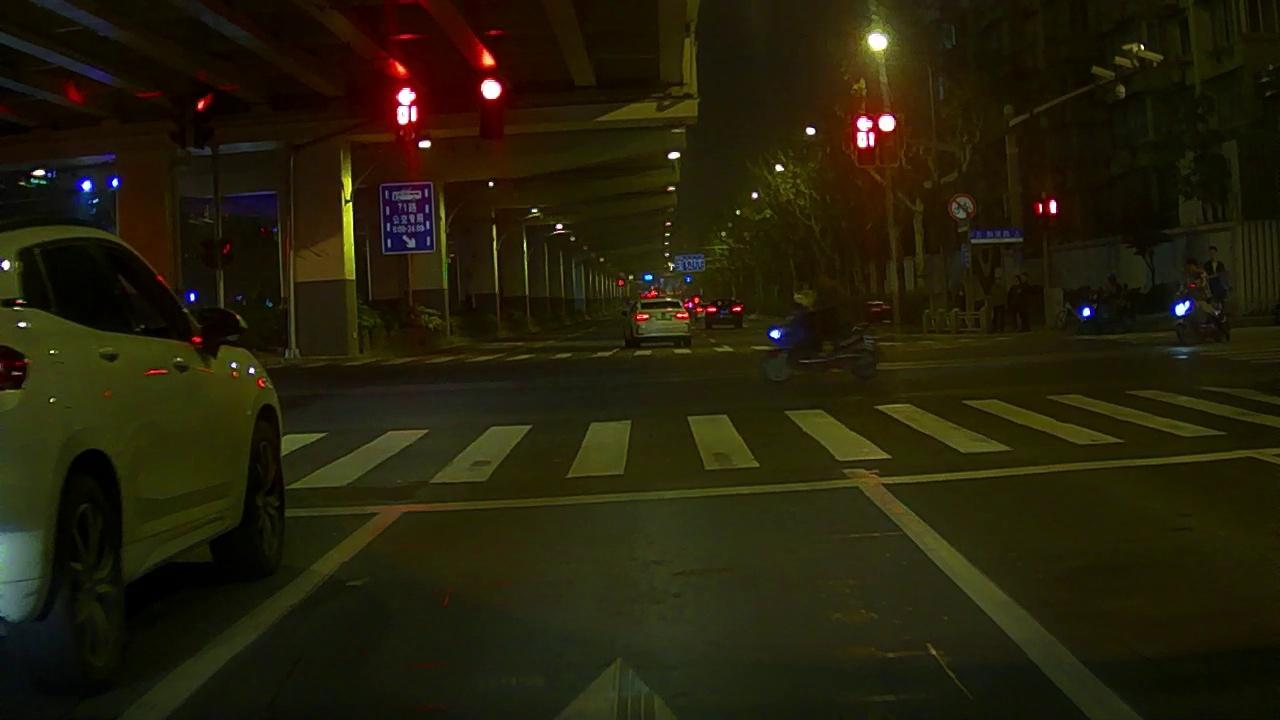traffic_light: (478, 76, 503, 139), (858, 113, 877, 166), (877, 113, 896, 163), (398, 86, 415, 127)
